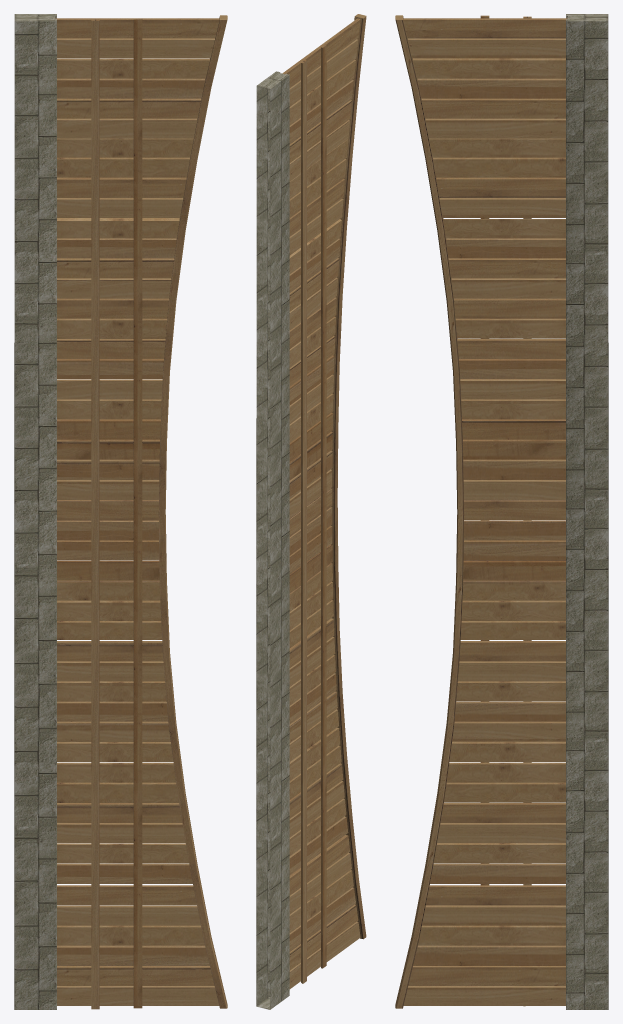
Rendered from nt_concrete_fence_256_LOD0.obj.
3 renders of one model, left to right at view 1: azimuth 90°, elevation 25°; view 2: azimuth 150°, elevation 25°; view 3: azimuth 270°, elevation 25°, orthographic. The views are drawn at different scales.
Parts seen in each view (by area): view 1: nt_wood_fence, nt_2020_concrete_pattern_02; view 2: nt_wood_fence, nt_2020_concrete_pattern_02; view 3: nt_wood_fence, nt_2020_concrete_pattern_02.
Boxes of the visible parts, bbox=[...] form: nt_wood_fence: bbox=[55, 15, 227, 1009]; nt_2020_concrete_pattern_02: bbox=[14, 14, 56, 1009]; nt_wood_fence: bbox=[282, 14, 366, 988]; nt_2020_concrete_pattern_02: bbox=[256, 71, 289, 1009]; nt_wood_fence: bbox=[395, 15, 567, 1008]; nt_2020_concrete_pattern_02: bbox=[566, 14, 608, 1009].
Bounding box in the file's own units: 10.16 × 651 × 127.
Materials: 2 (2 with a texture image).
